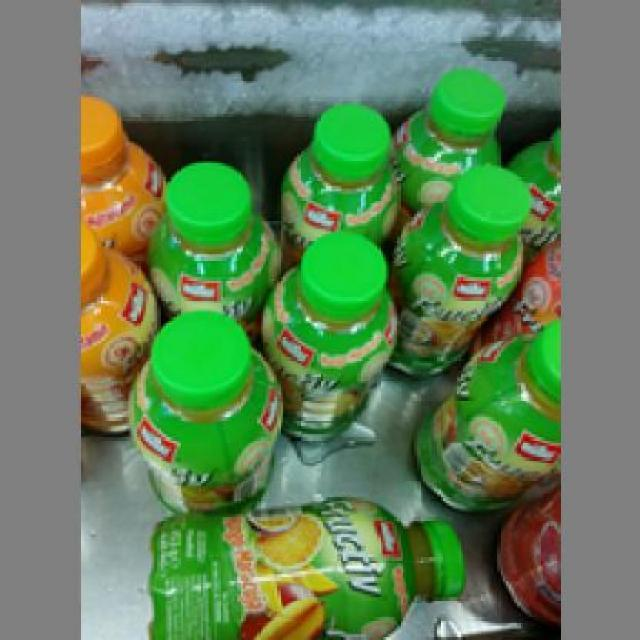Juice: (146, 494, 460, 637), (120, 302, 286, 515), (380, 163, 529, 377), (260, 228, 397, 446), (412, 317, 554, 506)
